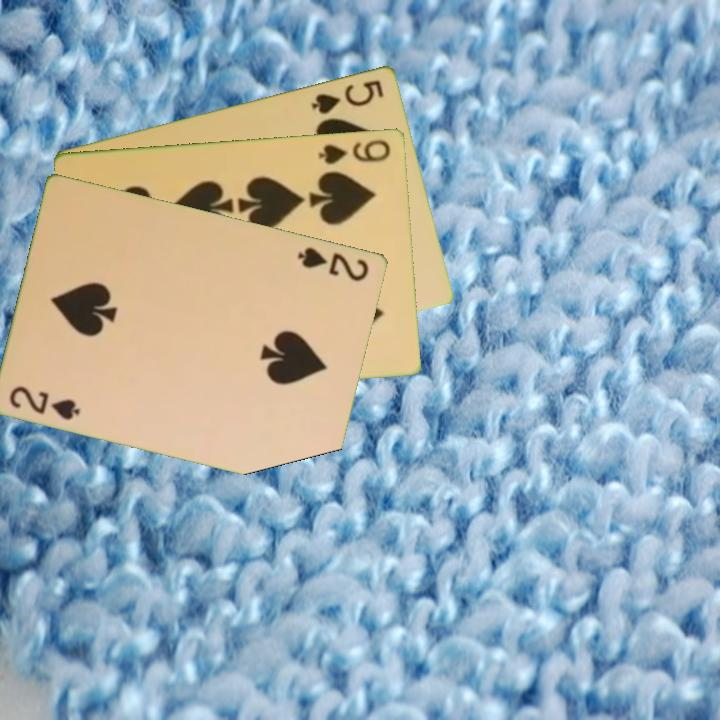2s: (294, 243, 372, 284), (6, 382, 83, 423)
5s: (308, 76, 387, 117)
9s: (315, 135, 394, 167)
